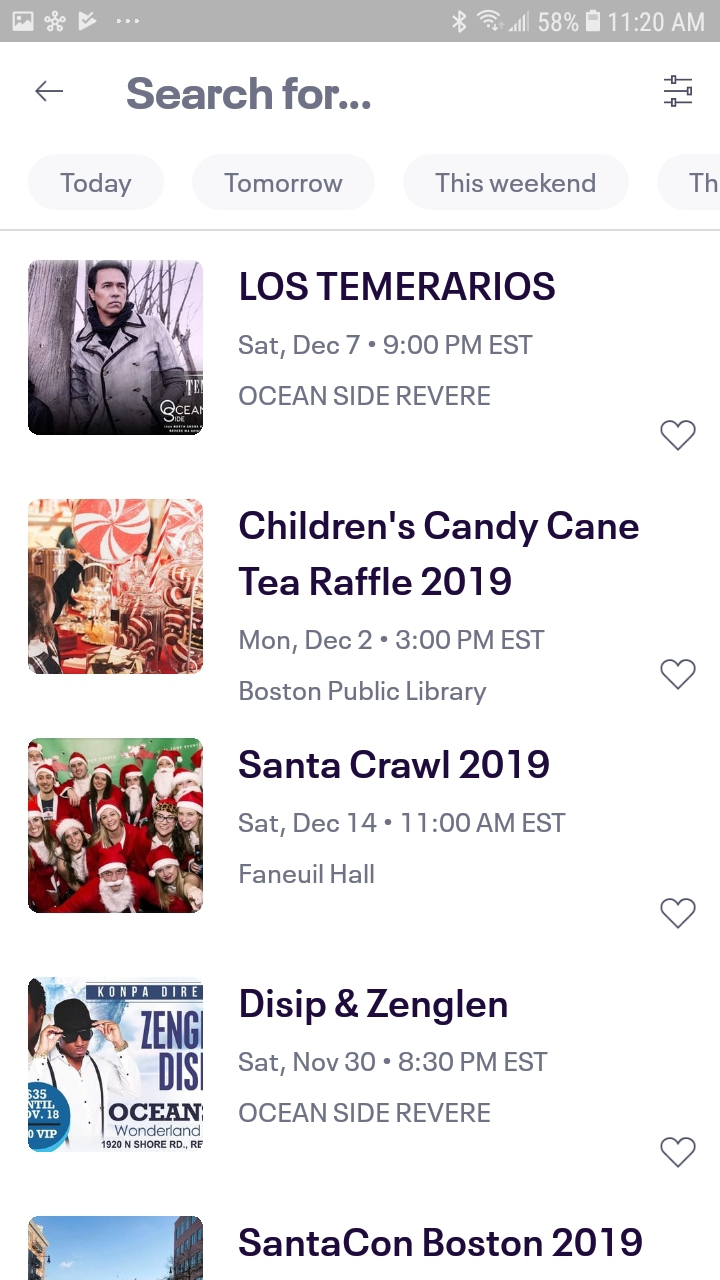Icon: (659, 1136, 696, 1169), (660, 898, 697, 930), (660, 659, 697, 691), (660, 420, 697, 452), (663, 75, 693, 108), (35, 81, 64, 103)
Image: (28, 738, 204, 914), (29, 499, 204, 675), (29, 260, 204, 435), (29, 978, 204, 1152), (29, 1215, 204, 1280)
Text: (238, 511, 640, 597), (239, 1227, 643, 1256), (241, 988, 508, 1026), (239, 749, 550, 780), (241, 272, 556, 301), (239, 812, 567, 838), (239, 1050, 548, 1077), (127, 77, 372, 111), (240, 629, 546, 655), (239, 334, 533, 360), (240, 681, 488, 706), (239, 1102, 491, 1123), (239, 386, 491, 407), (240, 864, 375, 884)
TextButton: (403, 154, 630, 211), (193, 155, 376, 212), (28, 154, 165, 211), (657, 154, 720, 210)
UpperTaskBar: (1, 1, 720, 43)
